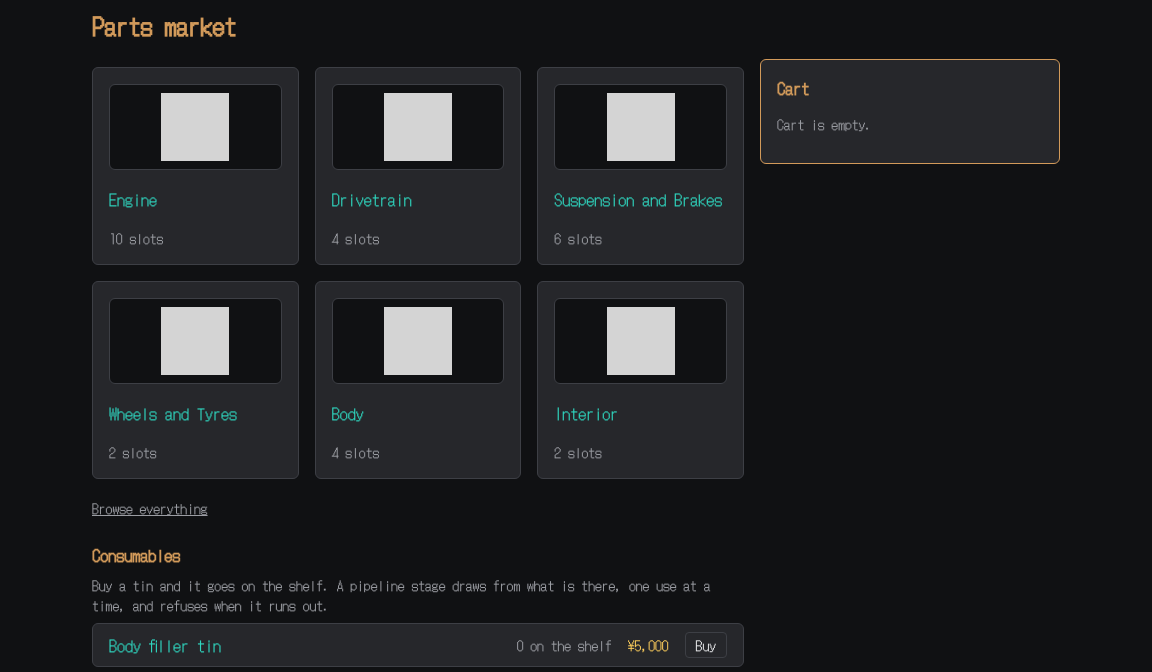
Test: PartsMarketScreen › drills down group to sub-part to filter the catalog, then leaves the department via the breadcrumb
Click the button with test id "hero-engine".
click(195, 166)  # box top-left (92, 67), bottom-right (299, 265)
(page scrolled)
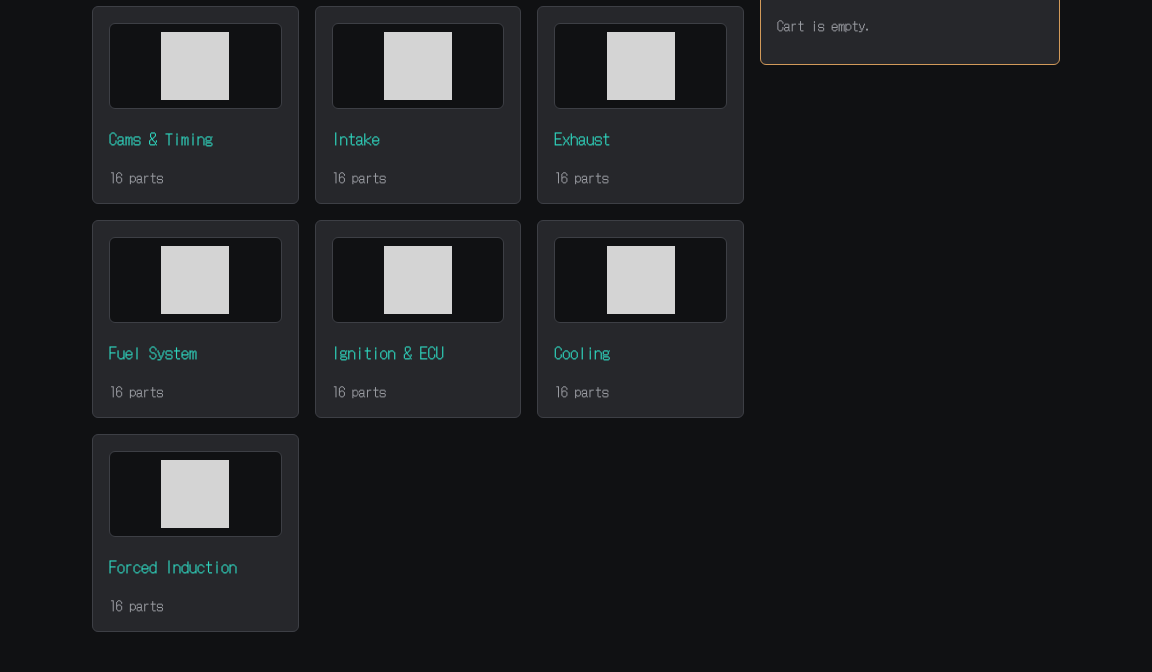
Click the button with test id "catalog-part-ignitionEcu".
click(418, 319)  # box top-left (315, 220), bottom-right (521, 418)
(page scrolled)
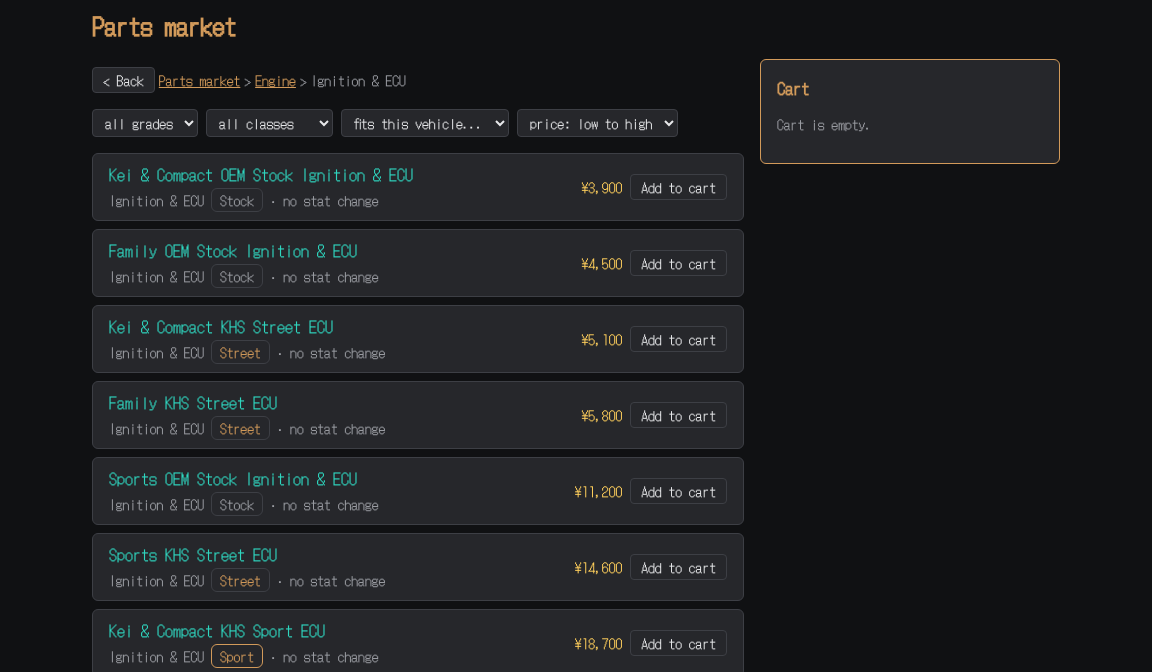
Expected: the number of list items is 16
Click the button with test id "breadcrumb-root" showing "Parts market".
click(200, 80)  # box top-left (159, 70), bottom-right (240, 90)
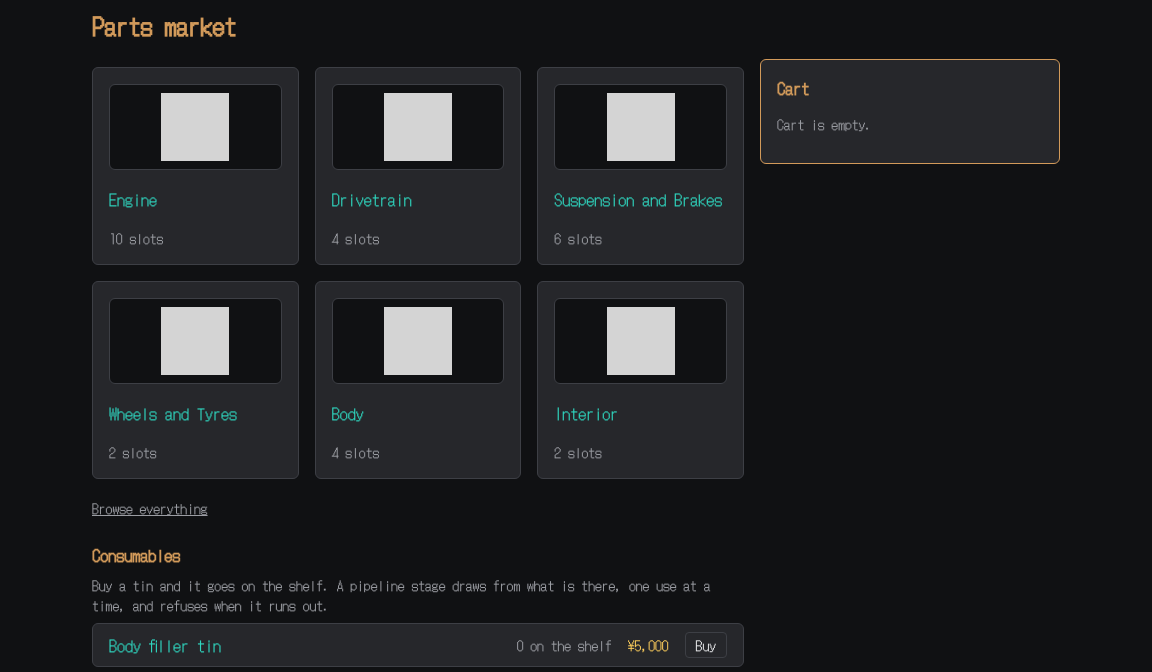
Expected: the number of buttons with class "hero-card" is 6, top-left (92, 67), bottom-right (299, 265); top-left (315, 67), bottom-right (521, 265); top-left (537, 67), bottom-right (744, 265); top-left (92, 281), bottom-right (299, 479); top-left (315, 281), bottom-right (521, 479); top-left (537, 281), bottom-right (744, 479)
